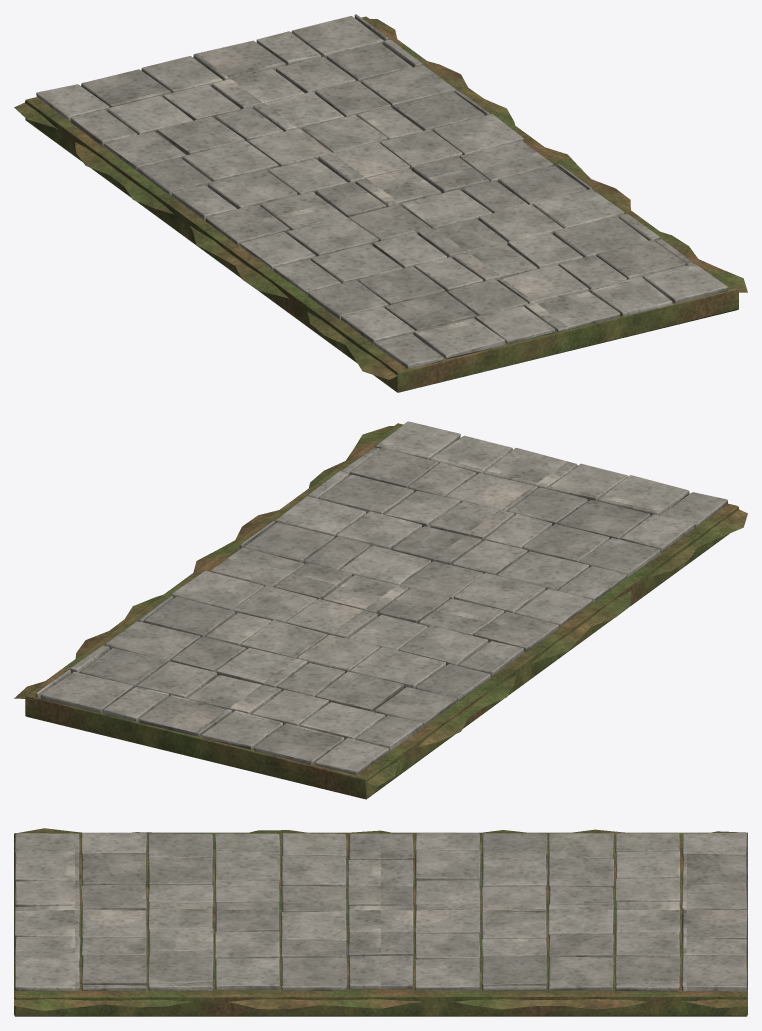
File: stone_path_platform-LOD1.glb
The picture shows the model from 3 angles, top to bottom: view 1: azimuth 30°, elevation 25°; view 2: azimuth 150°, elevation 25°; view 3: azimuth 270°, elevation 25°; orthographic projection.
Visible parts, largest first — view 1: Closely fitted hand dressed flagstone.001, Closely fitted hand dressed flagstone.007, Buried earthen roadbed, Closely fitted hand dressed flagstone, Closely fitted hand dressed flagstone.002, Closely fitted hand dressed flagstone.005, Closely fitted hand dressed flagstone.010; view 2: Closely fitted hand dressed flagstone.001, Closely fitted hand dressed flagstone.007, Buried earthen roadbed, Closely fitted hand dressed flagstone, Closely fitted hand dressed flagstone.002, Closely fitted hand dressed flagstone.005, Closely fitted hand dressed flagstone.010; view 3: Closely fitted hand dressed flagstone.001, Buried earthen roadbed, Closely fitted hand dressed flagstone.007, Closely fitted hand dressed flagstone, Closely fitted hand dressed flagstone.002, Closely fitted hand dressed flagstone.005, Closely fitted hand dressed flagstone.010.
Boxes of the visible parts, bbox=[...] form: Closely fitted hand dressed flagstone.001: bbox=[141, 14, 672, 359]; Closely fitted hand dressed flagstone.007: bbox=[81, 40, 685, 330]; Buried earthen roadbed: bbox=[14, 16, 747, 392]; Closely fitted hand dressed flagstone: bbox=[103, 16, 693, 368]; Closely fitted hand dressed flagstone.002: bbox=[36, 31, 554, 344]; Closely fitted hand dressed flagstone.005: bbox=[107, 91, 727, 303]; Closely fitted hand dressed flagstone.010: bbox=[70, 39, 627, 294]; Closely fitted hand dressed flagstone.001: bbox=[35, 435, 694, 749]; Closely fitted hand dressed flagstone.007: bbox=[80, 447, 650, 765]; Buried earthen roadbed: bbox=[14, 423, 747, 799]; Closely fitted hand dressed flagstone: bbox=[41, 447, 727, 726]; Closely fitted hand dressed flagstone.002: bbox=[103, 463, 628, 775]; Closely fitted hand dressed flagstone.005: bbox=[216, 421, 460, 739]; Closely fitted hand dressed flagstone.010: bbox=[70, 462, 626, 750]; Closely fitted hand dressed flagstone.001: bbox=[14, 832, 746, 991]; Buried earthen roadbed: bbox=[14, 828, 747, 1016]; Closely fitted hand dressed flagstone.007: bbox=[81, 833, 747, 990]; Closely fitted hand dressed flagstone: bbox=[14, 833, 747, 990]; Closely fitted hand dressed flagstone.002: bbox=[15, 832, 746, 960]; Closely fitted hand dressed flagstone.005: bbox=[14, 851, 680, 990]; Closely fitted hand dressed flagstone.010: bbox=[81, 833, 680, 991].
Bounding box in the file's own units: 4.72 × 0.3177 × 8.
7 materials, 7 textured.
